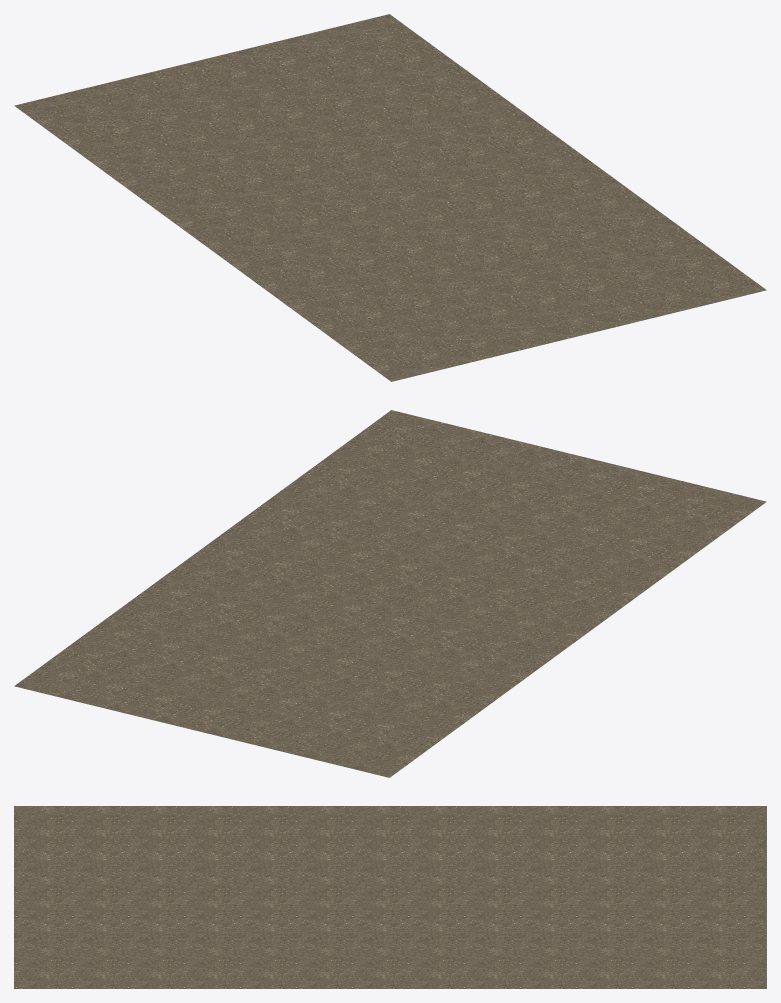
Rendered from ground_2.obj.
3 views of the same model, one above another, from view 1: azimuth 30°, elevation 25°; view 2: azimuth 150°, elevation 25°; view 3: azimuth 270°, elevation 25° (orthographic).
Parts seen in each view (by area): view 1: square.002_Plane.002; view 2: square.002_Plane.002; view 3: square.002_Plane.002.
Boxes of the visible parts, x1,y1,x2,y2 form: square.002_Plane.002: (14, 14, 766, 381); square.002_Plane.002: (14, 410, 766, 777); square.002_Plane.002: (14, 806, 766, 988).
Size of the model in its own units: 8.1 by 0 by 14.09.
1 material, 1 textured.
